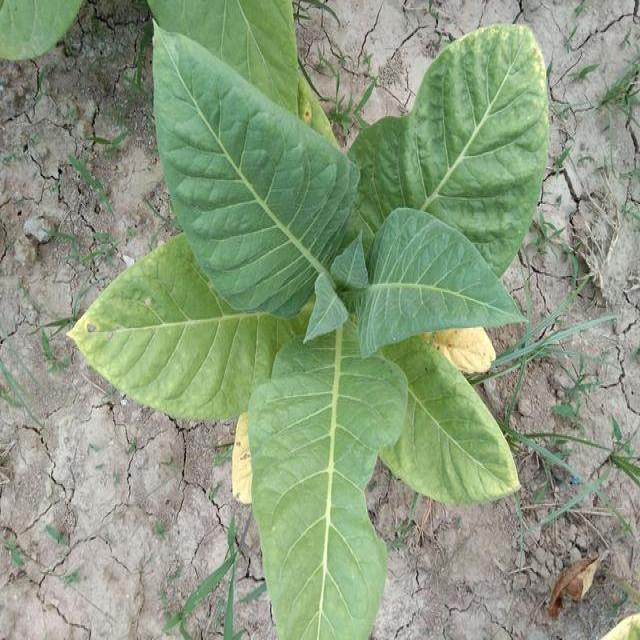crop: (69, 12, 560, 640)
